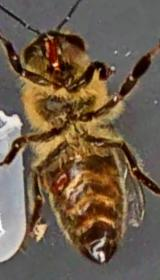varroa_mite: (45, 168, 78, 204)
